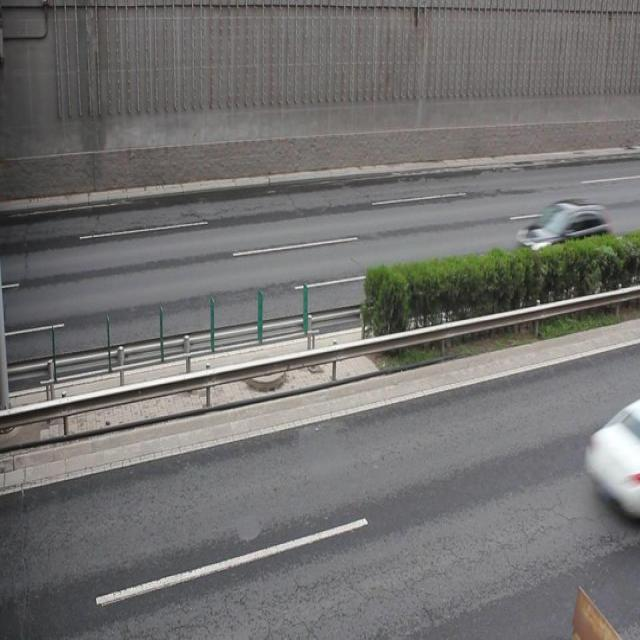car: (516, 198, 608, 268)
